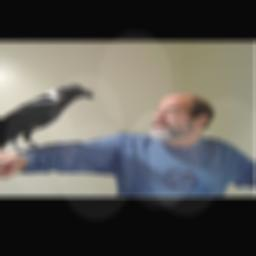Crow: (0, 81, 94, 159)
